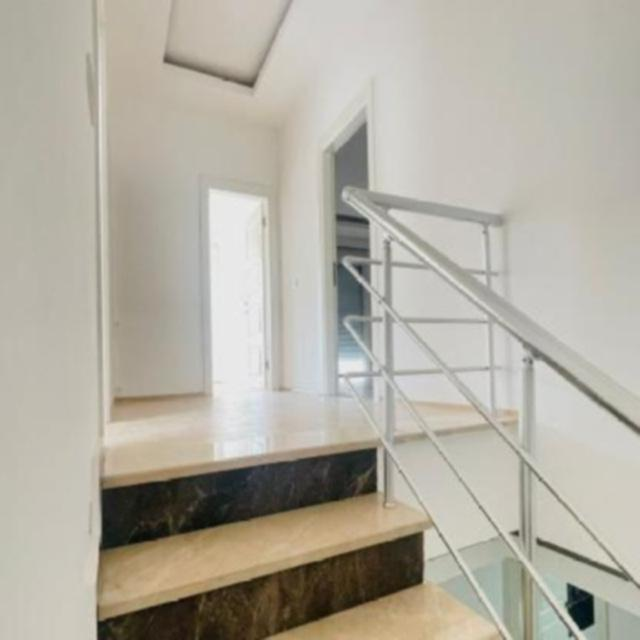stair: (91, 411, 634, 640)
